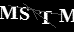M: (1, 5, 17, 20), (57, 8, 74, 22)
S: (19, 6, 30, 21)
T: (37, 10, 53, 24)
